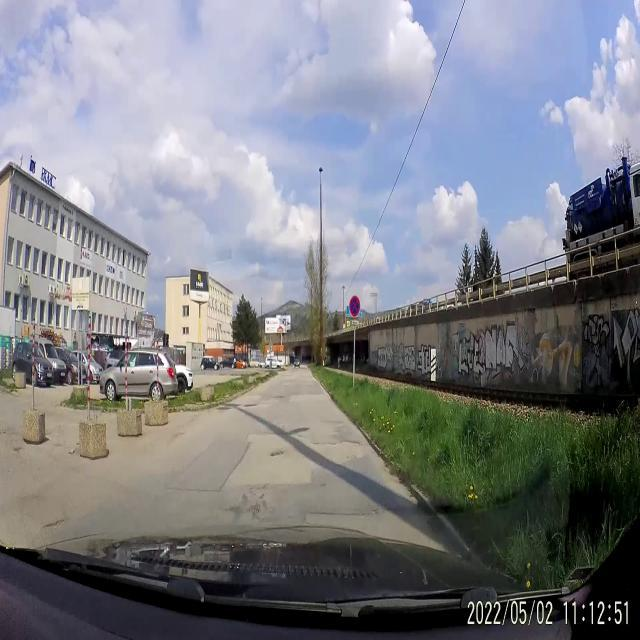Pothole: (34, 514, 66, 540), (314, 436, 362, 453), (266, 440, 288, 466)
